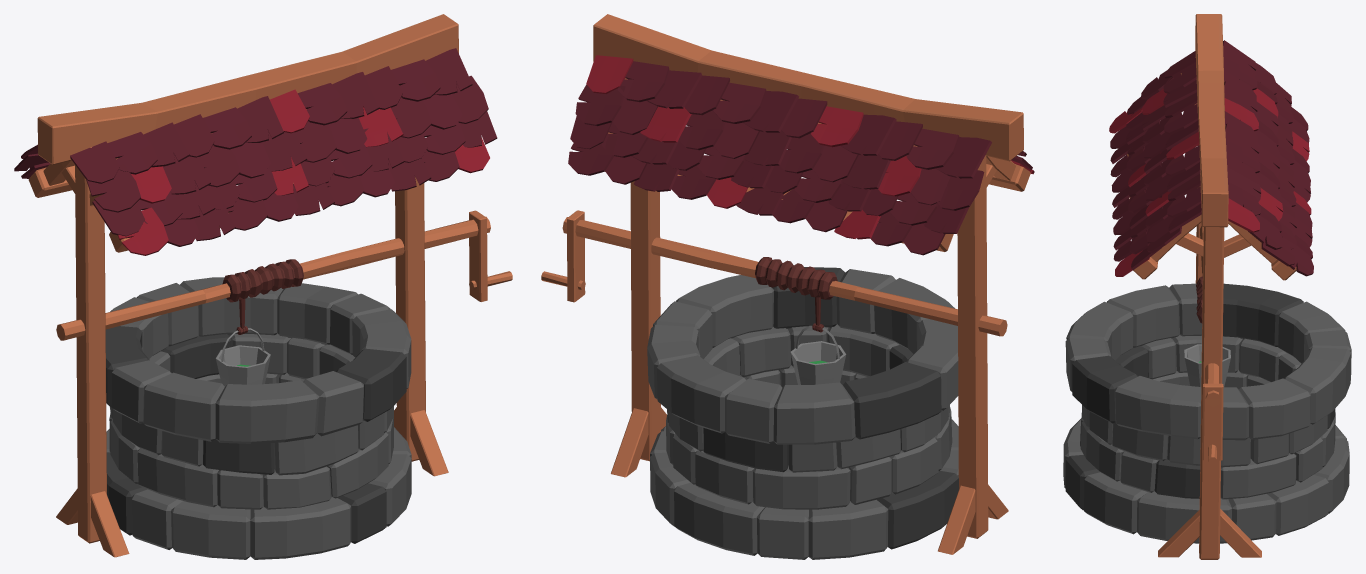
File: Energy put.fbx
3 renders of one model, left to right at view 1: azimuth 30°, elevation 25°; view 2: azimuth 150°, elevation 25°; view 3: azimuth 270°, elevation 25°, orthographic. The views are drawn at different scales.
Parts seen in each view (by area): view 1: Cube.004; view 2: Cube.004; view 3: Cube.004.
Part boxes in pixels (<box>): Cube.004: <box>14,14,512,559</box>; Cube.004: <box>541,14,1034,559</box>; Cube.004: <box>1063,14,1351,559</box>.
Bounding box in the file's own units: 3.45 × 3 × 2.05.
